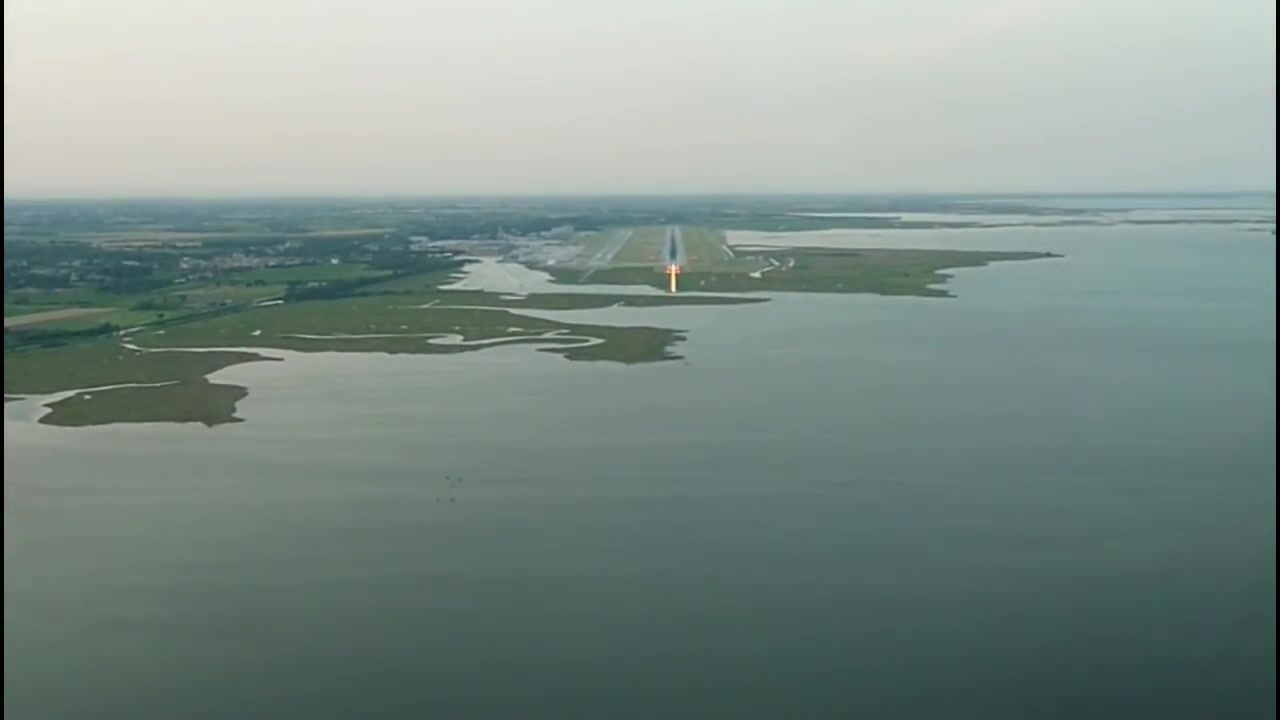runway: (585, 229, 631, 266), (659, 225, 686, 263)
